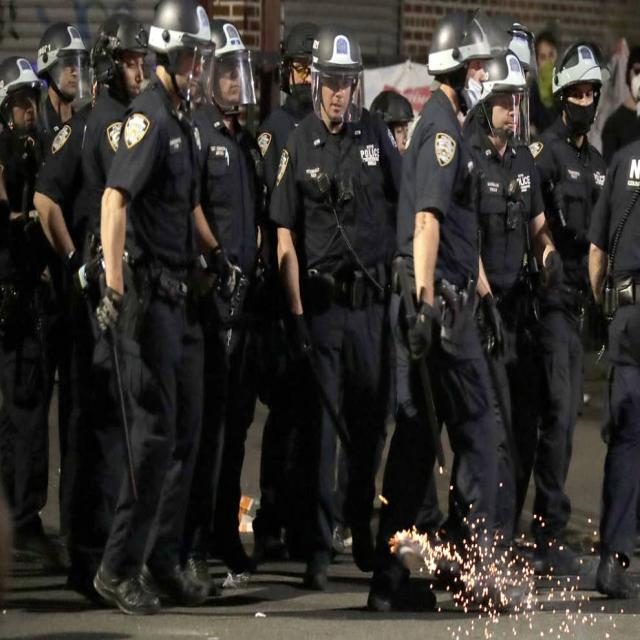police: (94, 0, 236, 626), (265, 3, 404, 580), (387, 0, 515, 571), (188, 16, 292, 607), (529, 14, 632, 579), (4, 17, 90, 574)
